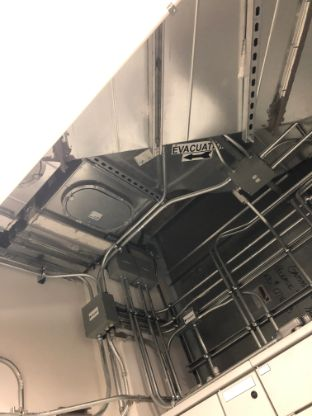Duct: (59, 1, 310, 165)
